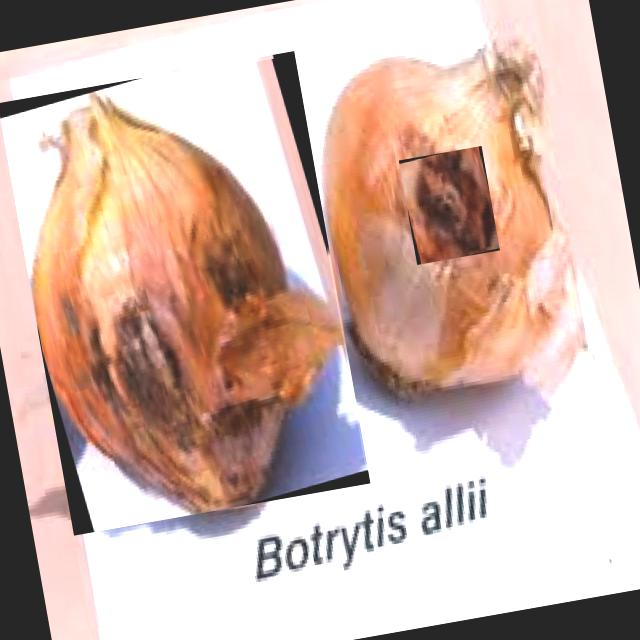rotten: (34, 90, 343, 512), (398, 146, 499, 265)
